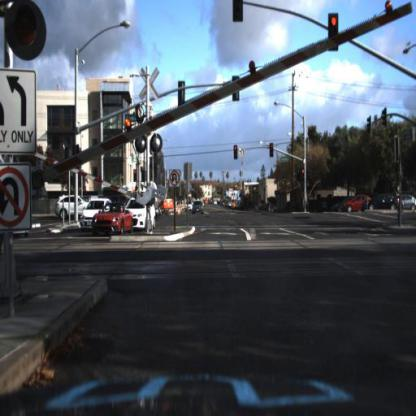car: (88, 203, 133, 235), (124, 196, 158, 232), (363, 192, 406, 215), (76, 198, 103, 232), (345, 192, 375, 215), (332, 196, 354, 214), (190, 196, 207, 217), (193, 199, 204, 215)
trafficLight: (12, 2, 44, 55), (233, 2, 245, 25)
trafficLight-Red: (328, 14, 340, 52), (269, 140, 277, 161), (301, 165, 307, 186), (233, 143, 239, 161), (271, 142, 275, 158)
